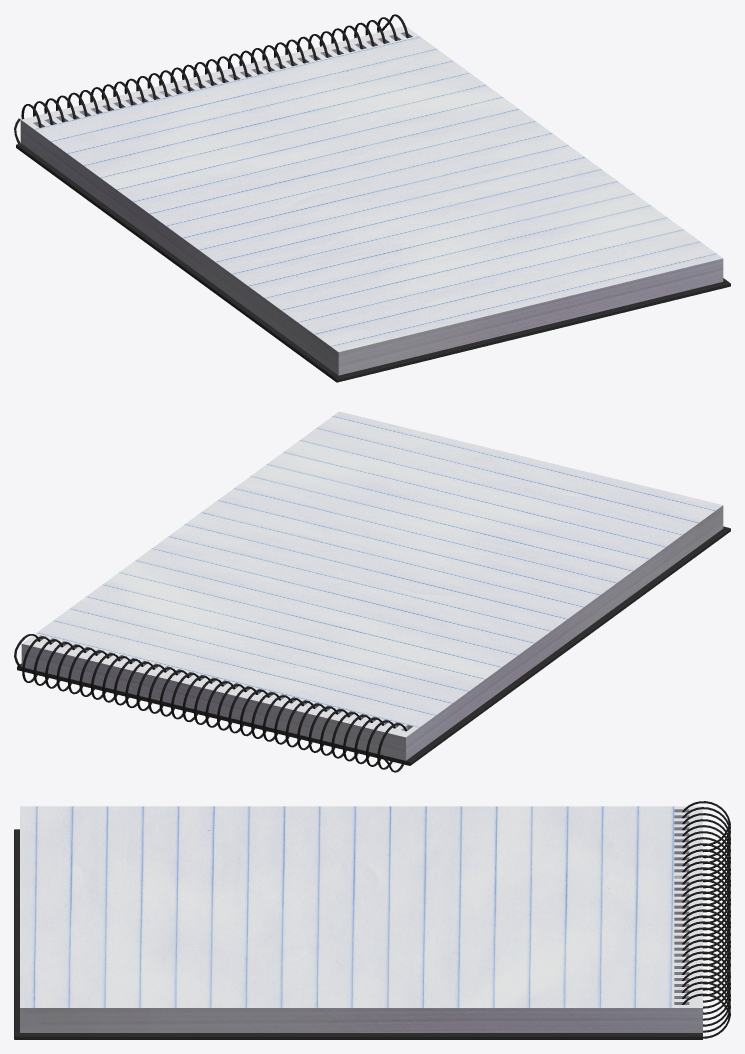
Rendered from notepad.fbx.
The picture shows the model from 3 angles, top to bottom: view 1: azimuth 30°, elevation 25°; view 2: azimuth 150°, elevation 25°; view 3: azimuth 270°, elevation 25°; orthographic projection. The views are drawn at different scales.
Parts seen in each view (by area): view 1: Paper, Cartonage, Binding; view 2: Paper, Binding, Cartonage; view 3: Paper, Binding, Cartonage.
Boxes of the visible parts, left/top/right/bottom form: Paper: left=20, top=26, right=723, bottom=375; Cartonage: left=16, top=143, right=730, bottom=382; Binding: left=14, top=14, right=408, bottom=143; Paper: left=21, top=411, right=723, bottom=760; Binding: left=14, top=634, right=407, bottom=772; Cartonage: left=17, top=526, right=730, bottom=765; Paper: left=20, top=806, right=702, bottom=1032; Binding: left=682, top=801, right=730, bottom=1038; Cartonage: left=14, top=829, right=702, bottom=1039.
Size of the model in its own units: 10.61 by 1.14 by 15.54.
